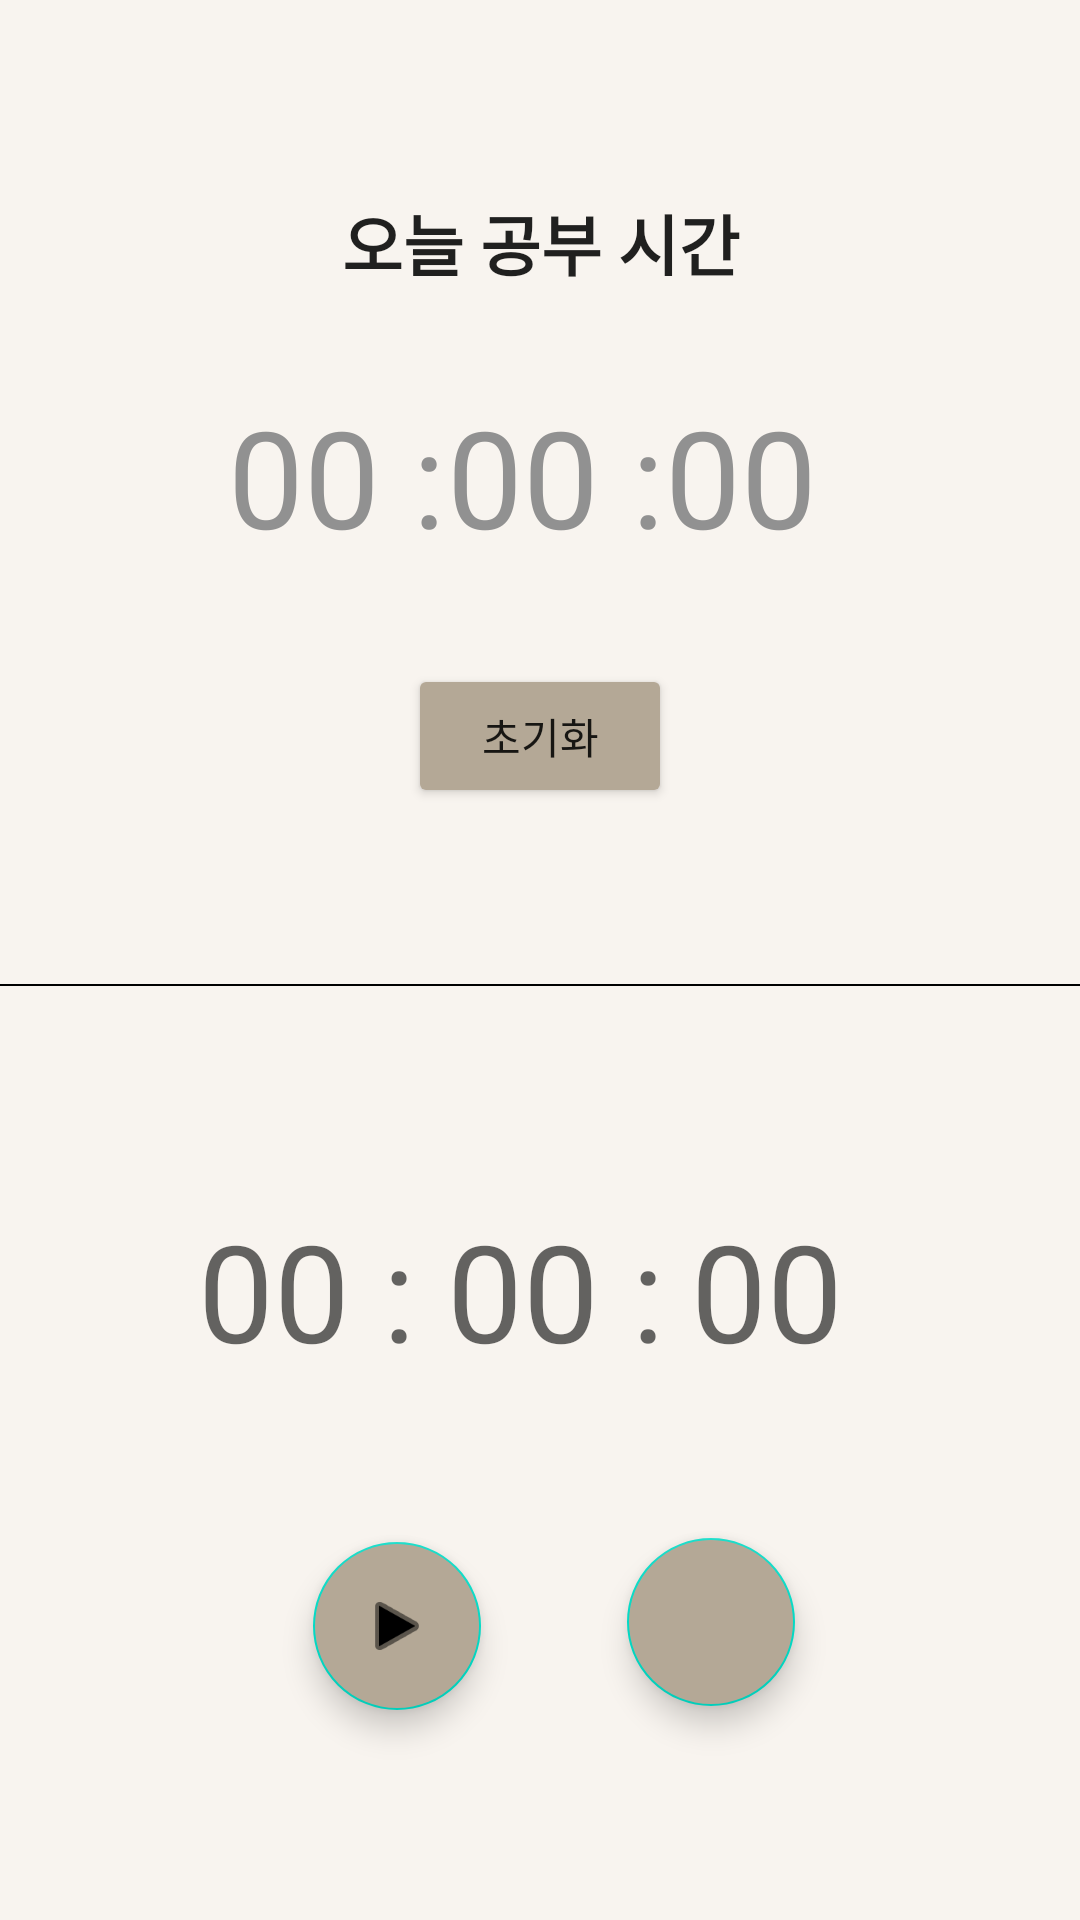

Named icons in this screenshot (1080×1920) and their bounding boxes, box(x1, y1, x2, y2):
play: box(313, 1542, 481, 1710)
